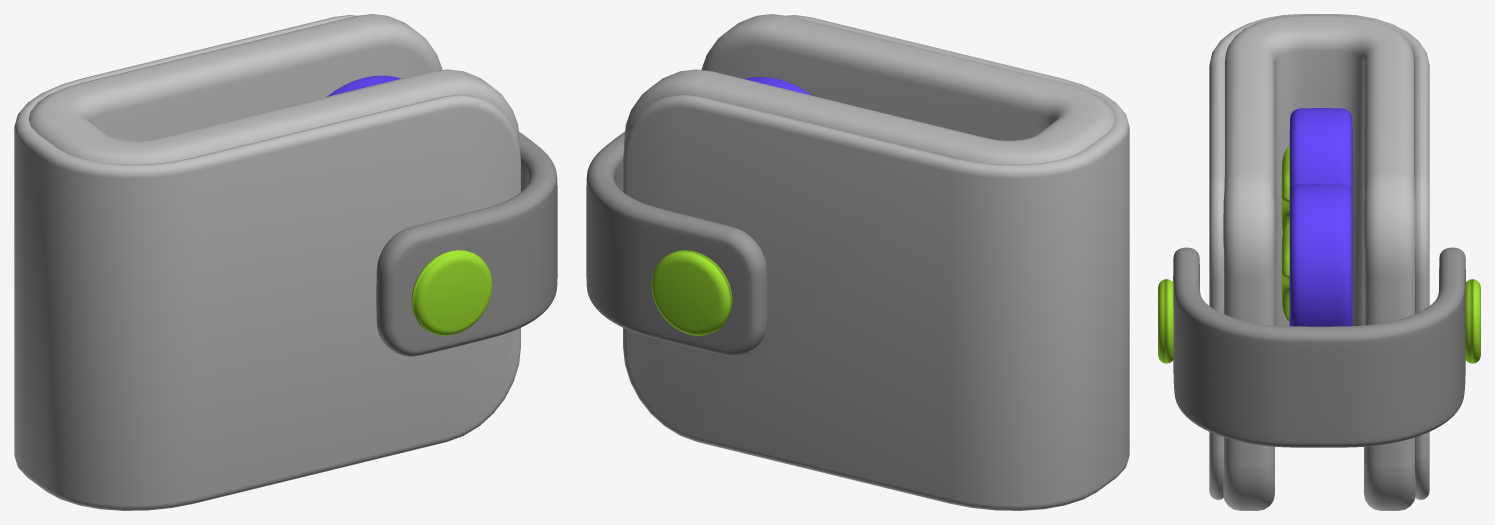
The model's file is earning-points-animated-3d-icon-1486849717557.glb.
3 views of the same model, side by side, from view 1: azimuth 30°, elevation 25°; view 2: azimuth 150°, elevation 25°; view 3: azimuth 270°, elevation 25° (orthographic). The views are drawn at different scales.
Parts seen in each view (by area): view 1: Outer Wallet, Inner Wallet, Lock, Lock 2; view 2: Outer Wallet, Inner Wallet, Lock, Lock 2; view 3: Inner Wallet, Lock, Outer Wallet, Base.001, Base, Lock 2, Star.001, Star.
Part boxes in pixels (x1=…): Outer Wallet: x1=14, y1=15, x2=520, y2=510; Inner Wallet: x1=28, y1=14, x2=519, y2=164; Lock: x1=376, y1=131, x2=557, y2=356; Lock 2: x1=411, y1=250, x2=492, y2=335; Outer Wallet: x1=623, y1=15, x2=1129, y2=510; Inner Wallet: x1=624, y1=14, x2=1115, y2=164; Lock: x1=586, y1=131, x2=767, y2=356; Lock 2: x1=651, y1=250, x2=732, y2=335; Inner Wallet: x1=1223, y1=15, x2=1415, y2=510; Lock: x1=1173, y1=247, x2=1465, y2=447; Outer Wallet: x1=1209, y1=14, x2=1429, y2=499; Base.001: x1=1289, y1=184, x2=1352, y2=326; Base: x1=1289, y1=108, x2=1352, y2=205; Lock 2: x1=1158, y1=279, x2=1480, y2=363; Star.001: x1=1281, y1=222, x2=1289, y2=321; Star: x1=1281, y1=146, x2=1289, y2=232.
Size of the model in its own units: 2.4 by 1.66 by 1.46.
